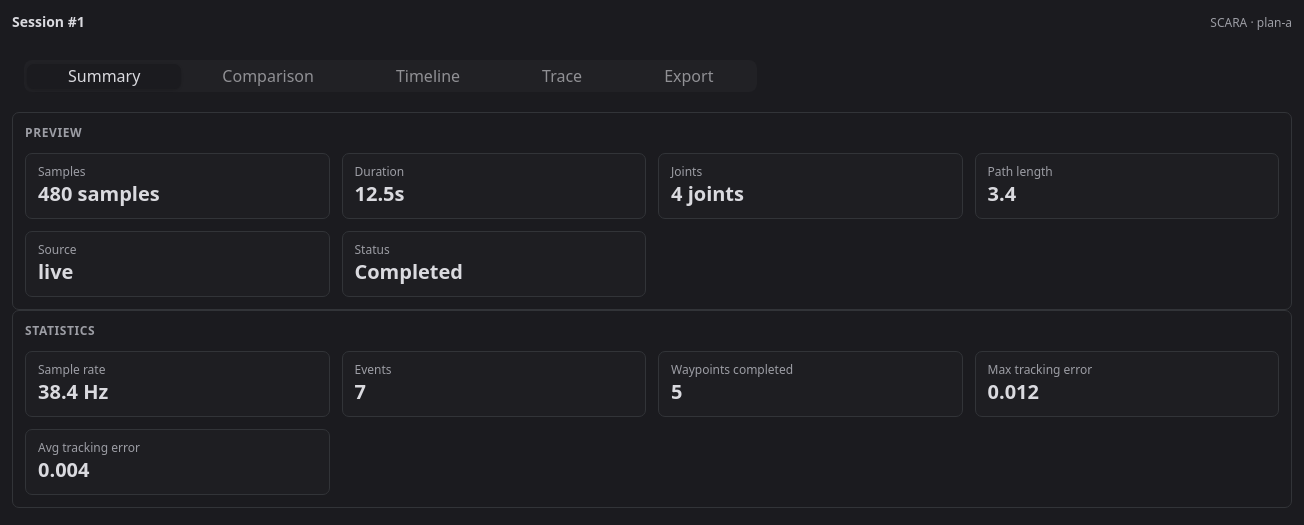
Scenario: SessionDetail tabs — purely compositional (P4) › Trace tab: fetches /trace and renders one legend entry per joint with mm:ss time axis
Expected: the text "480 samples" is shown, [38,180,160,207]
Click the tab "Trace" at [562, 76], box [501,64,623,88]
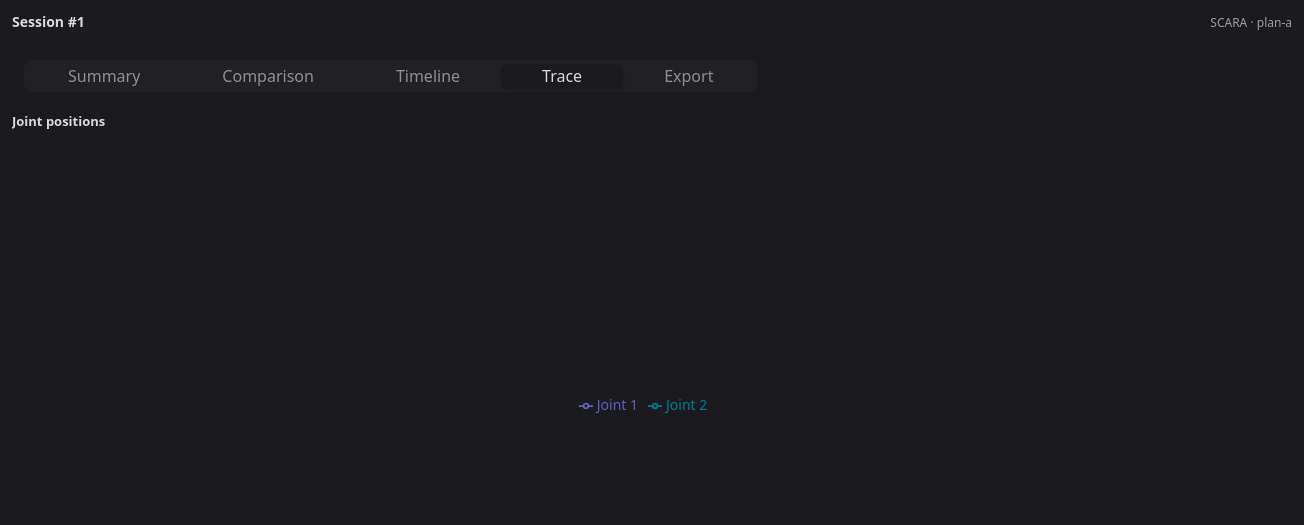
Expected: the element with test id "chart" is shown, [12,112,1292,432]
Expected: the text "Joint 1" is shown, [597,395,638,414]
Expected: the text "Joint 2" is shown, [666,395,707,414]
